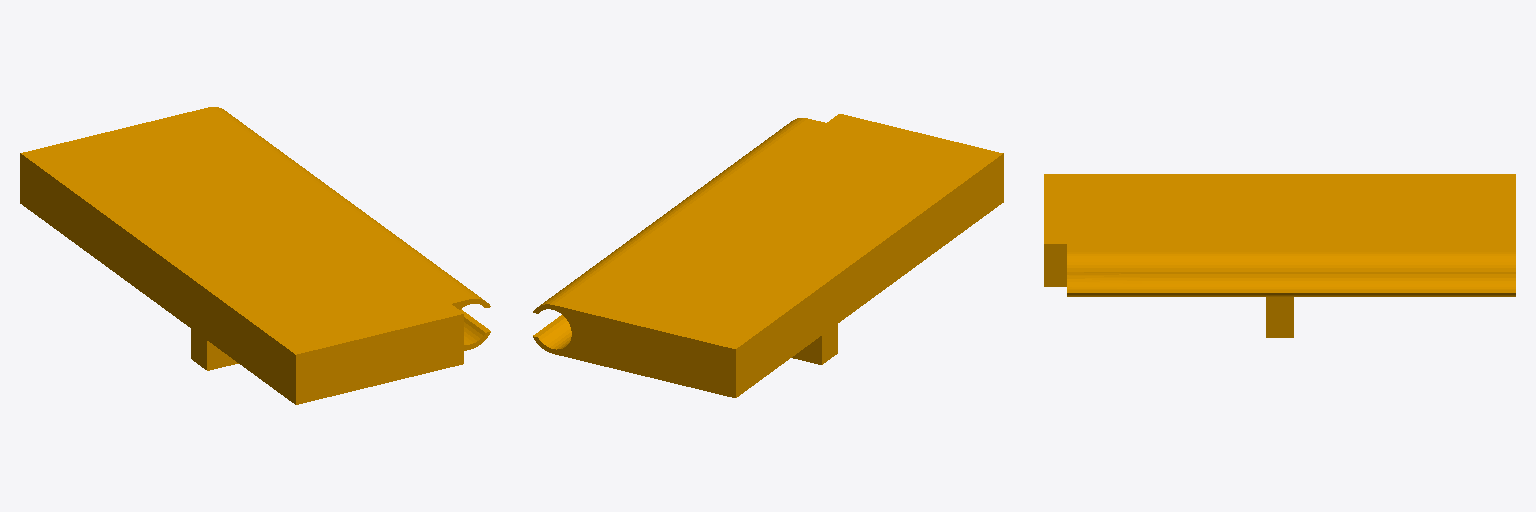
The robot description file, URDF, robot "cabinet_door_right":
<?xml version="1.0"?>
<robot name="cabinet_door_right">
    <link name="cabinet_door_right">
        <visual>
            <geometry>
                <mesh filename="../../mesh/cabinet/cabinet_door_right.obj" scale="1 1 1"/>
            </geometry>
        </visual>
        <collision>
            <geometry>
                <mesh filename="../../mesh/cabinet/cabinet_door_right.obj" scale="1 1 1"/>
            </geometry>
            <sdf resolution="512"/>
        </collision>
        <!-- <inertial>
            <mass value="1."/>
            <inertia ixx="0.0001" ixy="0.0" ixz="0.0" iyy="0.0001" iyz="0.0" izz="0.0001"/>
        </inertial> -->
    </link>
</robot>

--- Render facts (derived) ---
3 views of the same robot in one strip: view 1: azimuth 30°, elevation 25°; view 2: azimuth 150°, elevation 25°; view 3: azimuth 270°, elevation 25° (orthographic).
Robot: cabinet_door_right — 1 links, 0 joints (none); root link cabinet_door_right; default pose: every joint at zero.
Visible links, largest first — view 1: cabinet_door_right; view 2: cabinet_door_right; view 3: cabinet_door_right.
Boxes of the visible links, left/top/right/bottom form: cabinet_door_right: left=20, top=107, right=490, bottom=404; cabinet_door_right: left=533, top=114, right=1003, bottom=397; cabinet_door_right: left=1044, top=174, right=1515, bottom=337.
Size in the robot's own frame: 0.0542 by 0.1238 by 0.03 metres.
Meshes: 1 distinct files referenced, 1 mesh visuals loaded (1 OBJ).